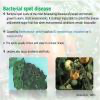Tomato leaf bacterial spot: (13, 59, 47, 90)
